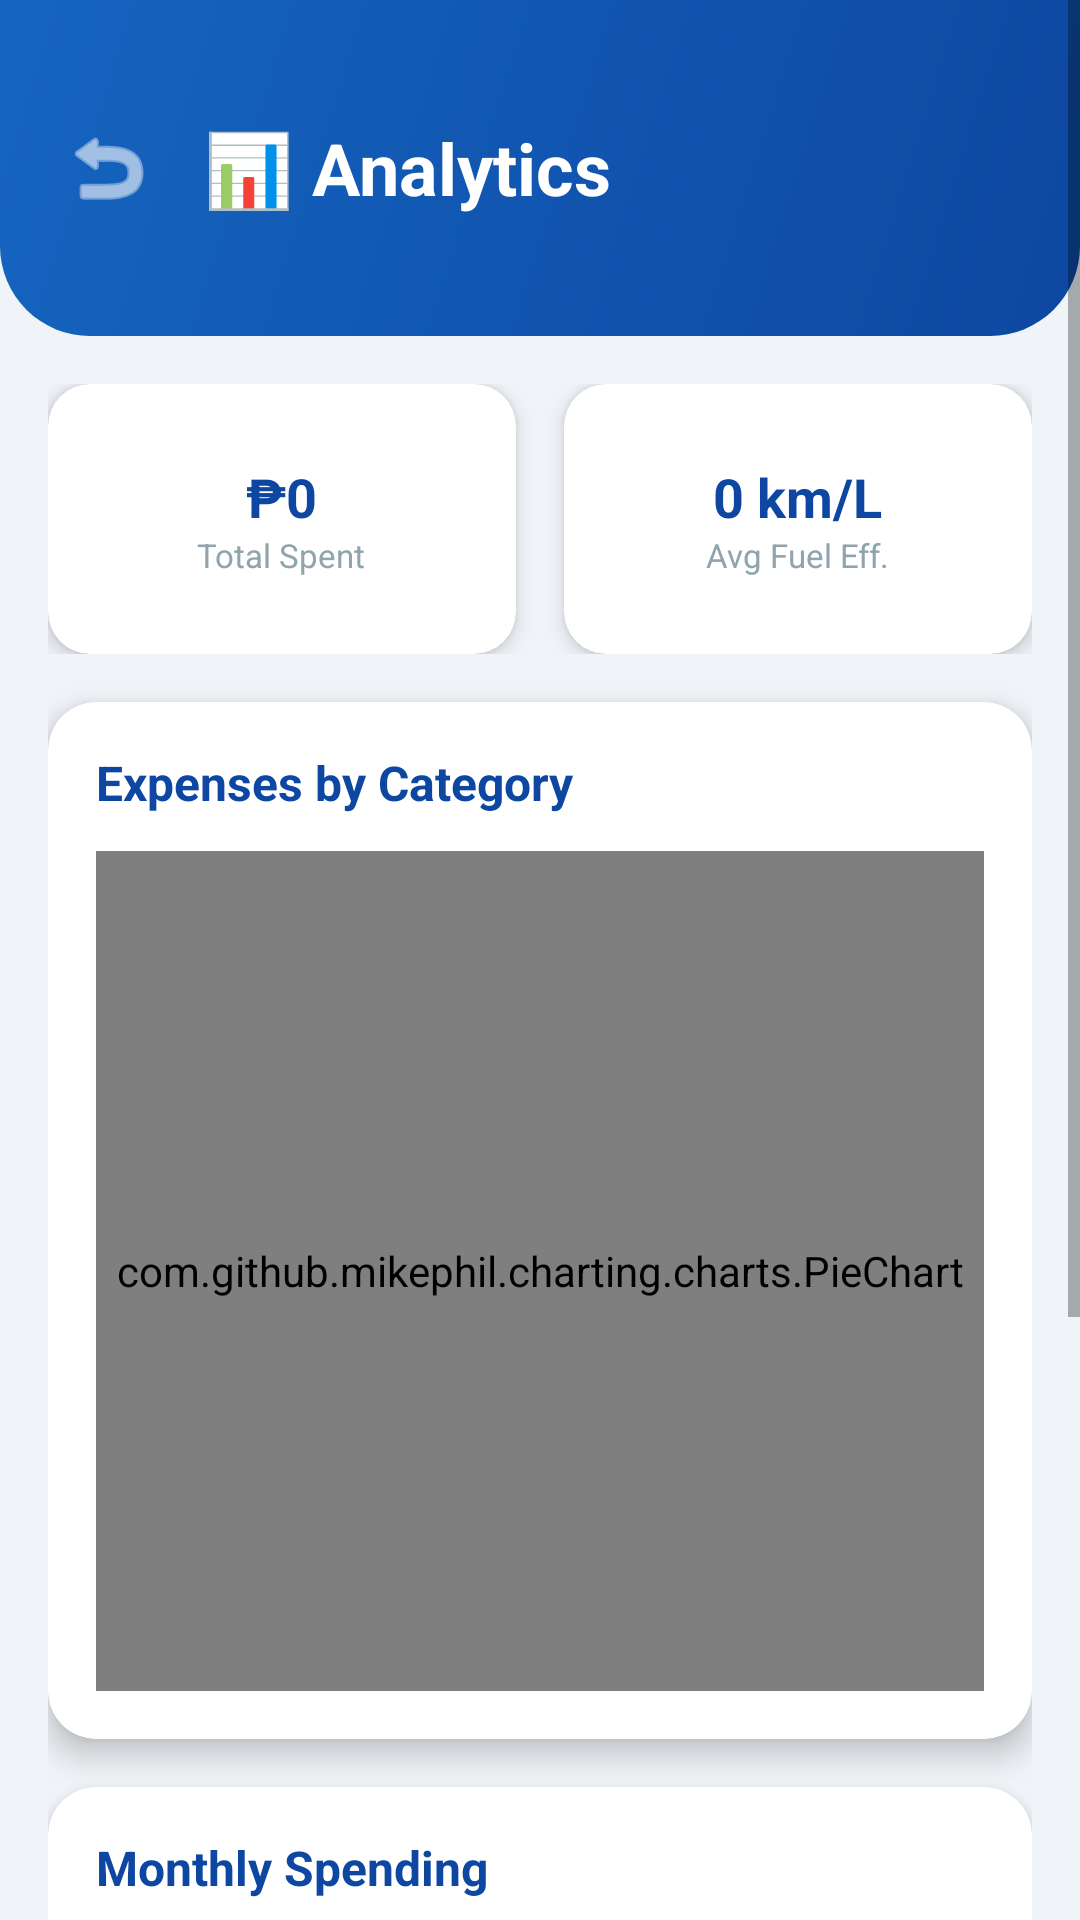

Icons on this 1080px x 1920px Android screen, each with the point to tap as point (x, y):
Back: point (109, 168)
